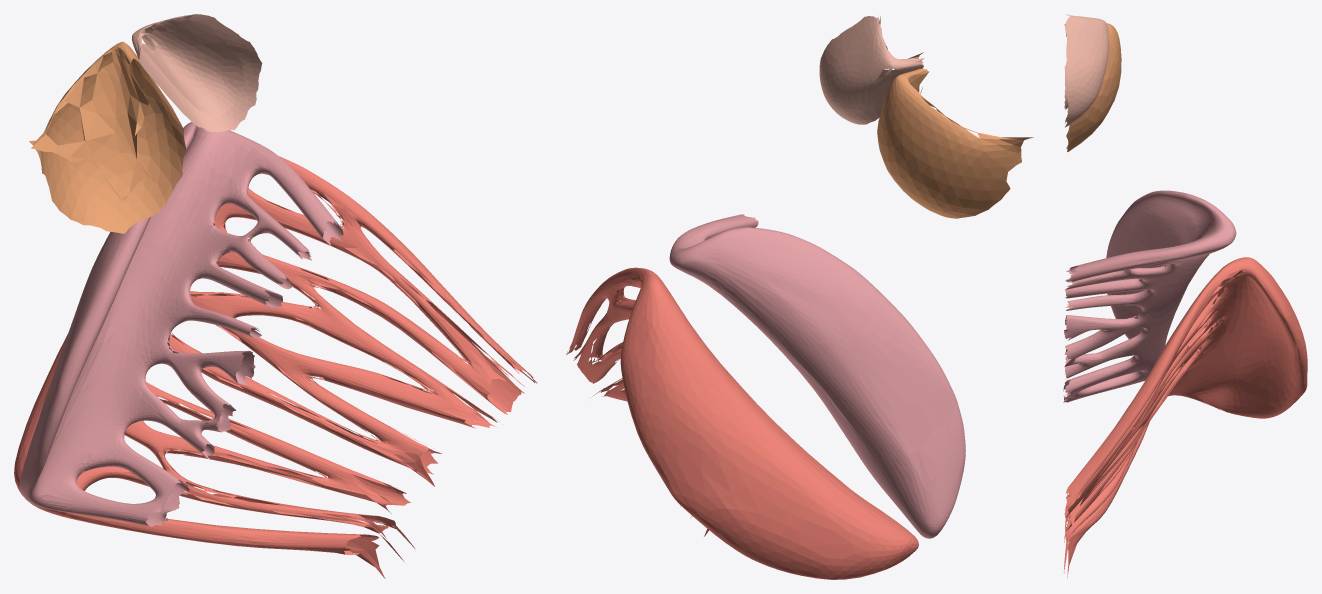
Rendered from valvola_mitrale_interno.glb.
3 renders of one model, left to right at view 1: azimuth 30°, elevation 25°; view 2: azimuth 150°, elevation 25°; view 3: azimuth 270°, elevation 25°, orthographic. The views are drawn at different scales.
Visible parts, largest first — view 1: anterior leaflet of mitral valve, inferior wall of left ventricle, right posterior cusp of aortic valve, left posterior cusp of aortic valve; view 2: inferior wall of left ventricle, anterior leaflet of mitral valve, right posterior cusp of aortic valve, left posterior cusp of aortic valve; view 3: inferior wall of left ventricle, anterior leaflet of mitral valve, left posterior cusp of aortic valve, right posterior cusp of aortic valve.
Part boxes in pixels (x1,y1,x2,y2): anterior leaflet of mitral valve: (19, 122, 343, 527); inferior wall of left ventricle: (14, 156, 537, 578); right posterior cusp of aortic valve: (29, 41, 186, 233); left posterior cusp of aortic valve: (132, 14, 262, 132); inferior wall of left ventricle: (566, 267, 918, 579); anterior leaflet of mitral valve: (669, 214, 965, 538); right posterior cusp of aortic valve: (877, 68, 1033, 218); left posterior cusp of aortic valve: (819, 15, 924, 124); inferior wall of left ventricle: (1063, 257, 1307, 577); anterior leaflet of mitral valve: (1063, 190, 1236, 402); left posterior cusp of aortic valve: (1064, 14, 1108, 127); right posterior cusp of aortic valve: (1064, 23, 1121, 151).
Bounding box in the file's own units: 49.31 × 56.91 × 25.67.
